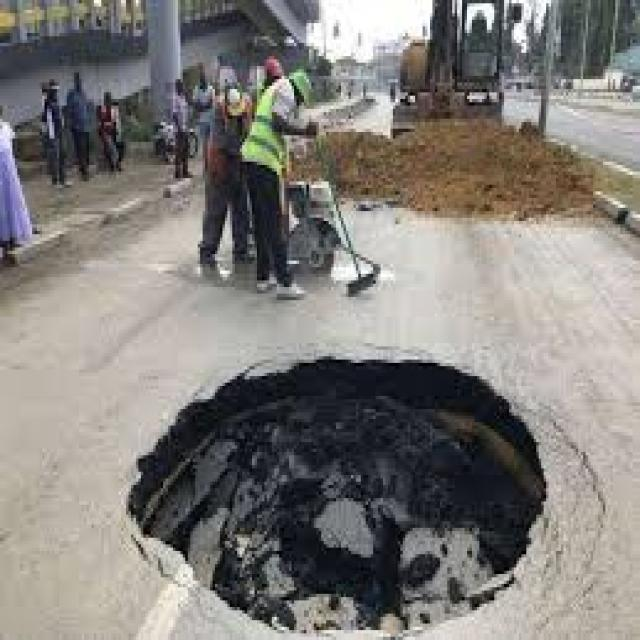hole: (108, 328, 566, 637)
